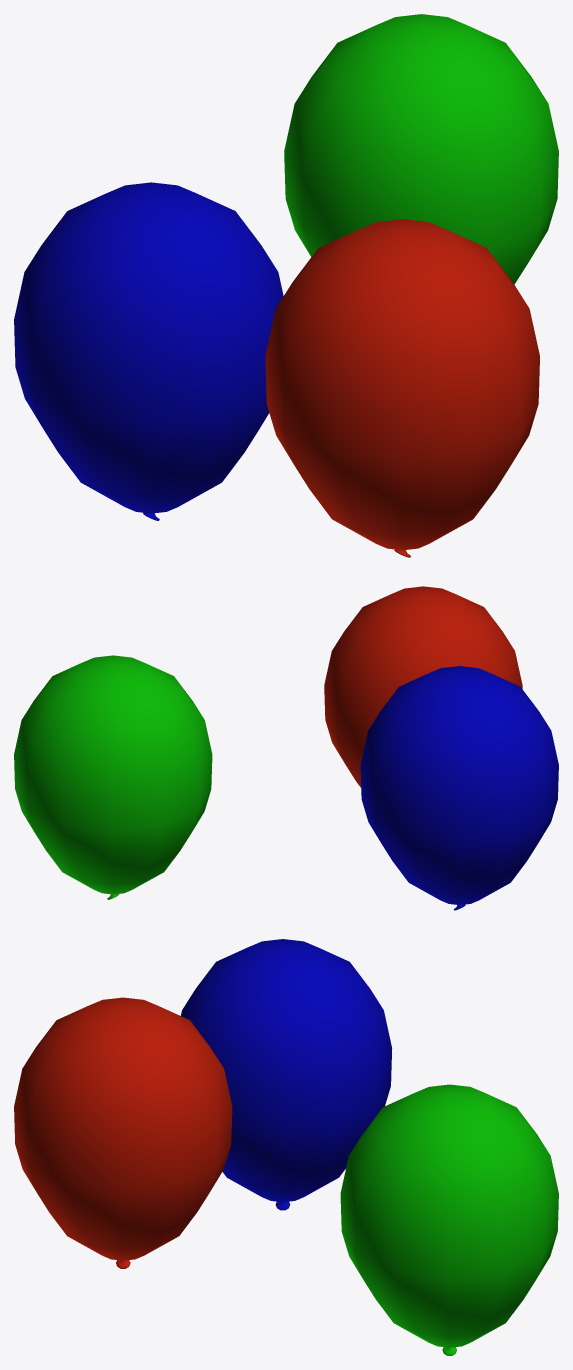
Rendered from balloon.FBX.
The picture shows the model from 3 angles, top to bottom: view 1: azimuth 30°, elevation 25°; view 2: azimuth 150°, elevation 25°; view 3: azimuth 270°, elevation 25°; orthographic projection. The views are drawn at different scales.
Visible parts, largest first — view 1: balloon, balloon_001, balloon_002; view 2: balloon_001, balloon_002, balloon; view 3: balloon_002, balloon, balloon_001.
Boxes of the visible parts, box(x1,y1,x2,y2) form: balloon: box(265, 219, 539, 557); balloon_001: box(14, 182, 283, 520); balloon_002: box(284, 14, 558, 284); balloon_001: box(360, 666, 558, 910); balloon_002: box(14, 655, 212, 899); balloon: box(324, 586, 522, 787); balloon_002: box(340, 1084, 558, 1355); balloon: box(14, 997, 232, 1268); balloon_001: box(181, 939, 392, 1210).
Size of the model in its own units: 44.46 by 22.57 by 43.06.
